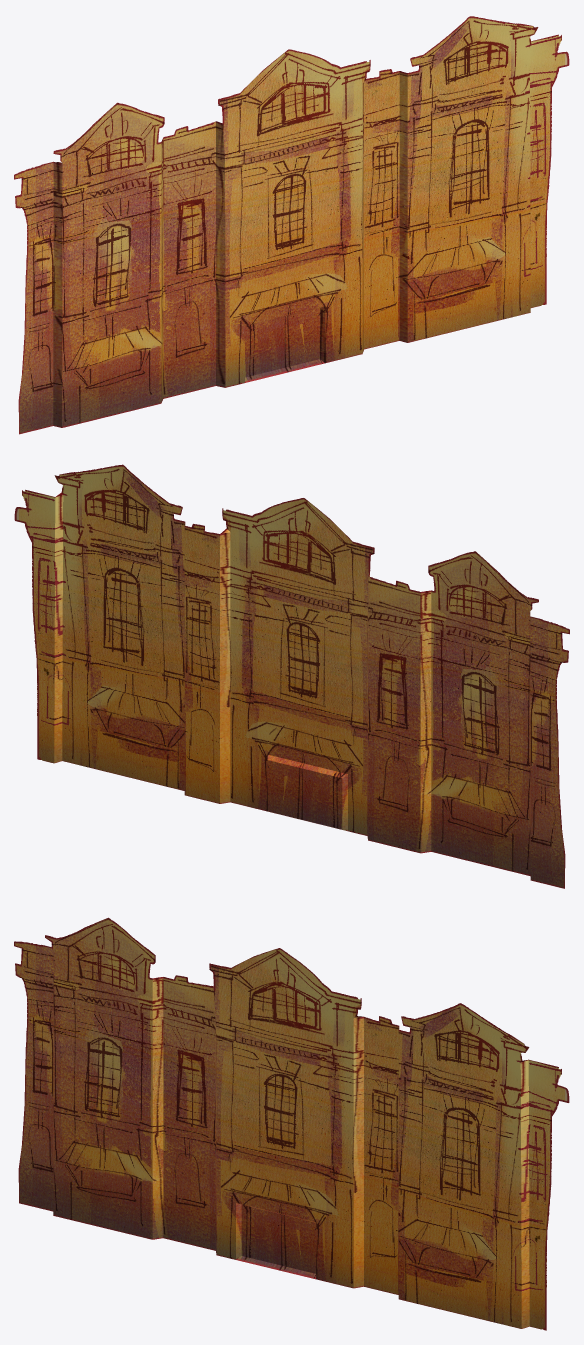
The model's file is red house.fbx.
3 renders of one model, top to bottom at view 1: azimuth 30°, elevation 25°; view 2: azimuth 150°, elevation 25°; view 3: azimuth 330°, elevation 25°, orthographic.
Visible parts, largest first — view 1: red house; view 2: red house; view 3: red house.
Boxes of the visible parts, bbox=[...] form: red house: bbox=[14, 16, 569, 434]; red house: bbox=[14, 464, 569, 888]; red house: bbox=[14, 917, 569, 1330].
Bounding box in the file's own units: 277 × 154 × 3.92.
Materials: 1 (1 with a texture image).
